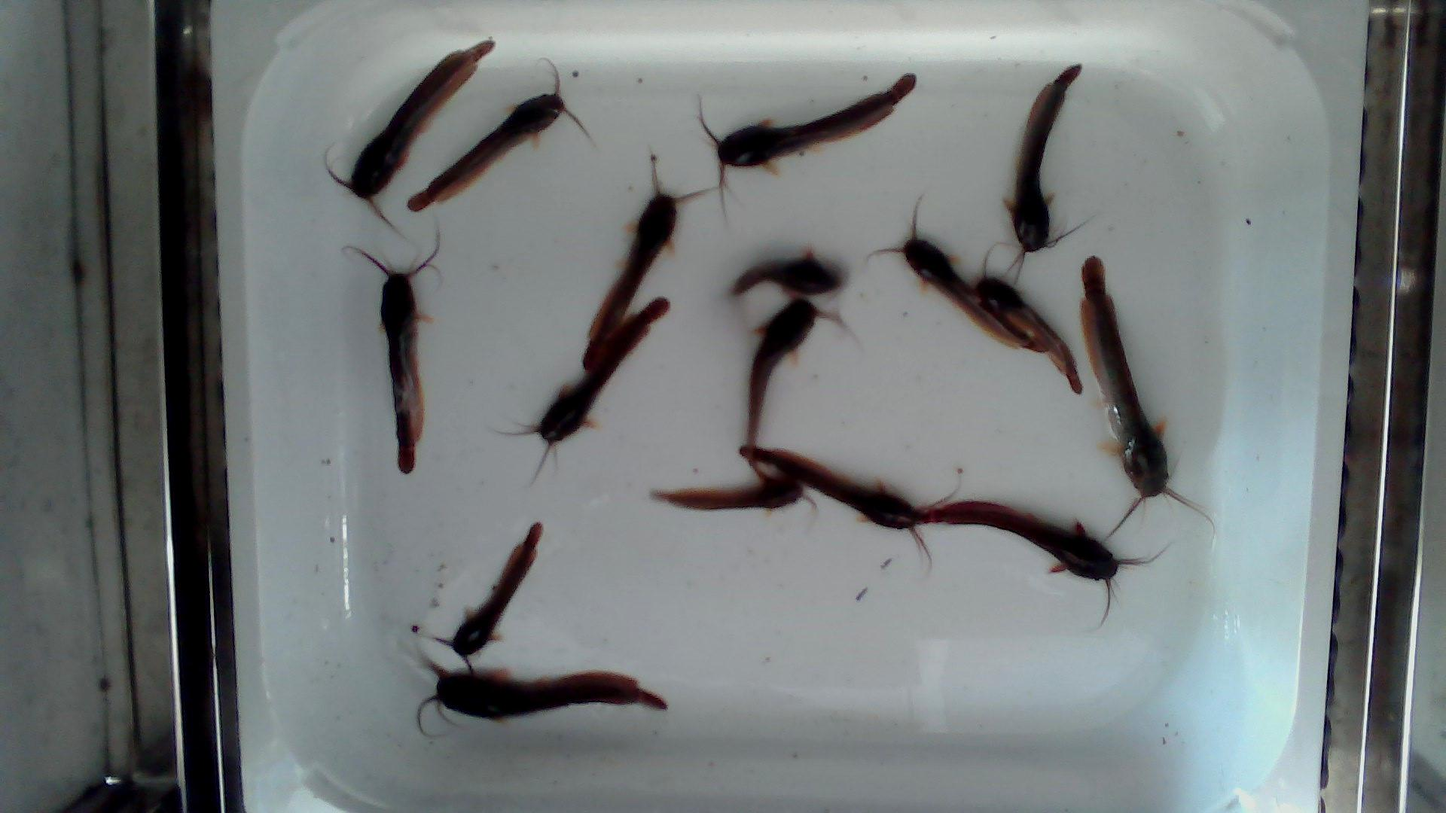lele: (1079, 254, 1214, 541), (486, 298, 674, 481), (325, 41, 495, 233), (696, 75, 917, 218), (739, 442, 970, 575), (922, 501, 1161, 626), (578, 156, 716, 372), (408, 60, 592, 214), (867, 199, 1048, 353), (416, 641, 668, 730), (351, 236, 443, 474), (426, 521, 546, 675), (1010, 65, 1092, 284), (749, 296, 855, 453), (976, 243, 1084, 394), (720, 253, 852, 318), (645, 475, 826, 513)
